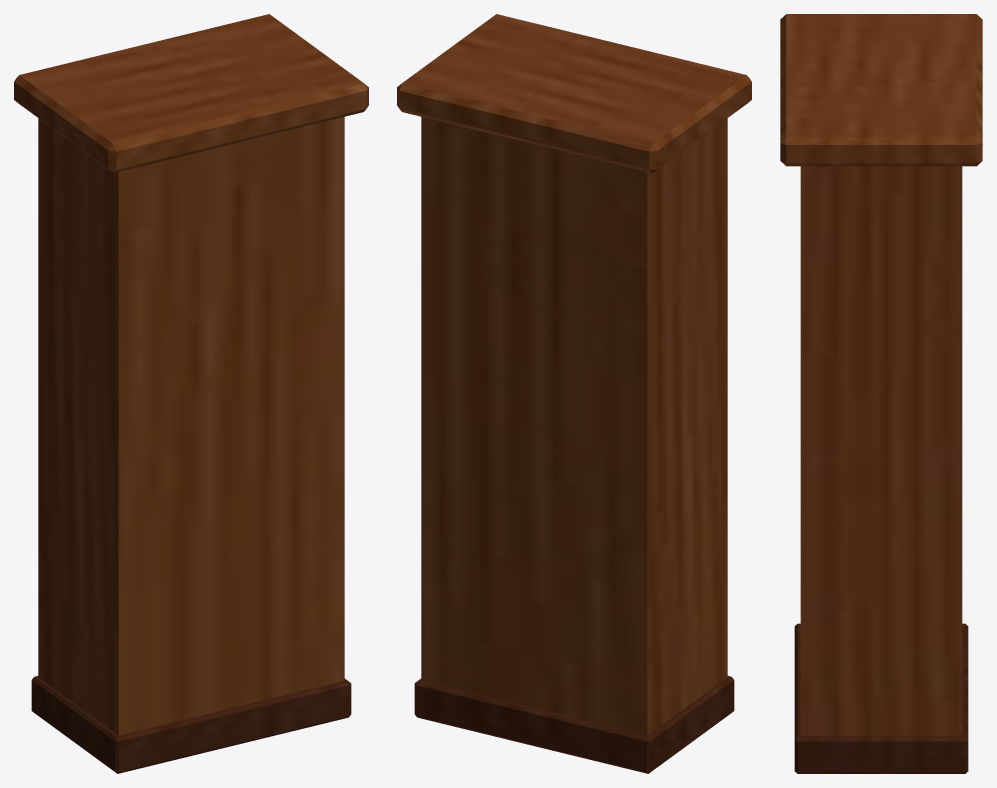
File: kabutostand.glb
3 views of the same model, side by side, from view 1: azimuth 30°, elevation 25°; view 2: azimuth 150°, elevation 25°; view 3: azimuth 270°, elevation 25° (orthographic).
Parts seen in each view (by area): view 1: StandLegs, StandTop; view 2: StandLegs, StandTop; view 3: StandLegs, StandTop.
Part boxes in pixels (x1,y1,x2,y2): StandLegs: (31,117,351,773); StandTop: (14,14,368,172); StandLegs: (414,117,734,773); StandTop: (397,14,751,172); StandLegs: (794,166,968,773); StandTop: (780,14,982,166).
Size of the model in its own units: 0.3 by 0.7 by 0.2.
2 materials, 2 textured.
